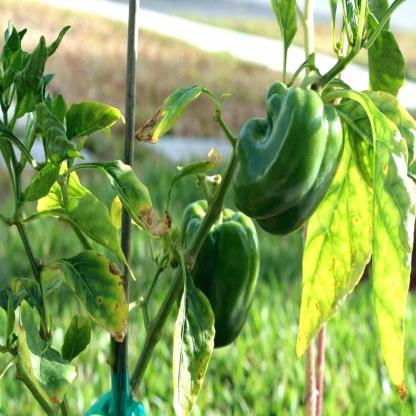Bell_pepper leaf: (170, 272, 218, 416), (60, 248, 130, 346), (100, 160, 176, 242), (130, 82, 206, 150)
